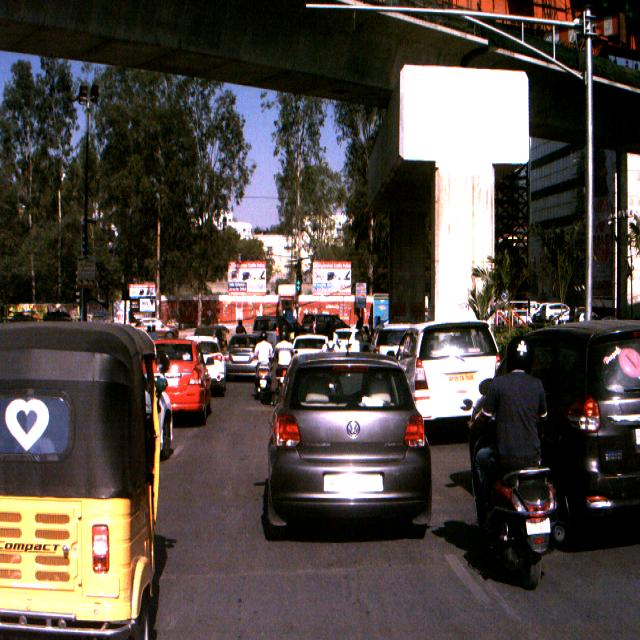auto ahead at: (2, 318, 162, 638)
car ahead at: (263, 350, 435, 562)
motorcycle ahead at: (488, 457, 567, 596)
